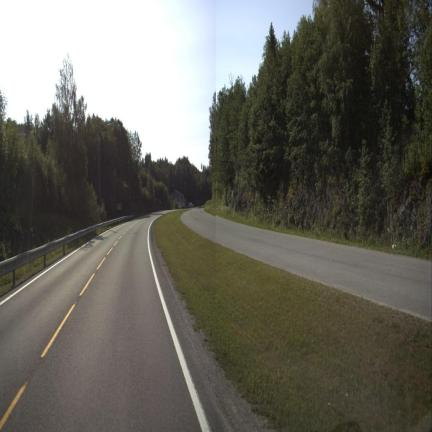Road: (0, 214, 232, 430), (182, 209, 431, 320)
